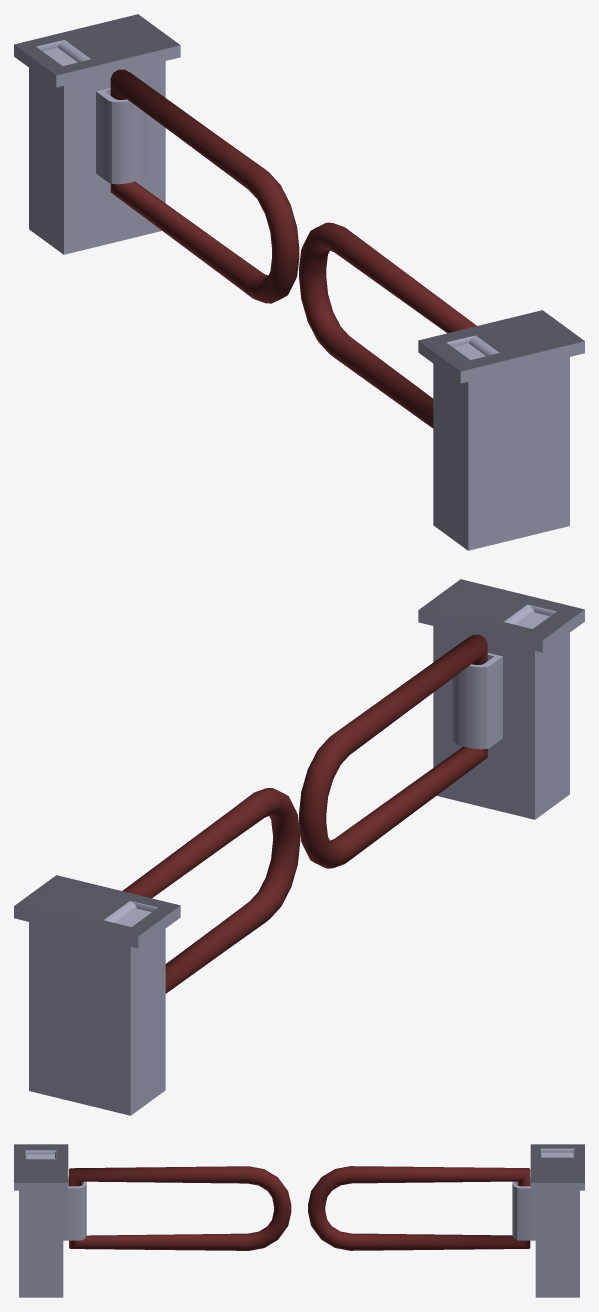
Rendered from Barrier1.3.fbx.
The picture shows the model from 3 angles, top to bottom: view 1: azimuth 30°, elevation 25°; view 2: azimuth 150°, elevation 25°; view 3: azimuth 270°, elevation 25°; orthographic projection. The views are drawn at different scales.
Visible parts, largest first — view 1: Right, Left, LeftDoor, RightDoor; view 2: Left, Right, RightDoor, LeftDoor; view 3: Left, Right, LeftDoor, RightDoor.
Boxes of the visible parts, <box> form: Right: <box>418,310,584,550</box>; Left: <box>14,14,180,254</box>; LeftDoor: <box>110,69,299,303</box>; RightDoor: <box>299,222,476,428</box>; Left: <box>14,875,180,1115</box>; Right: <box>418,579,584,819</box>; RightDoor: <box>299,634,487,868</box>; LeftDoor: <box>122,788,300,993</box>; Left: <box>512,1144,584,1297</box>; Right: <box>14,1144,86,1297</box>; LeftDoor: <box>308,1166,530,1250</box>; RightDoor: <box>69,1166,291,1250</box>.
Bounding box in the file's own units: 62.94 × 89.53 × 392.
Materials: 1 (1 with a texture image).
